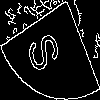S: (24, 24, 68, 77)
